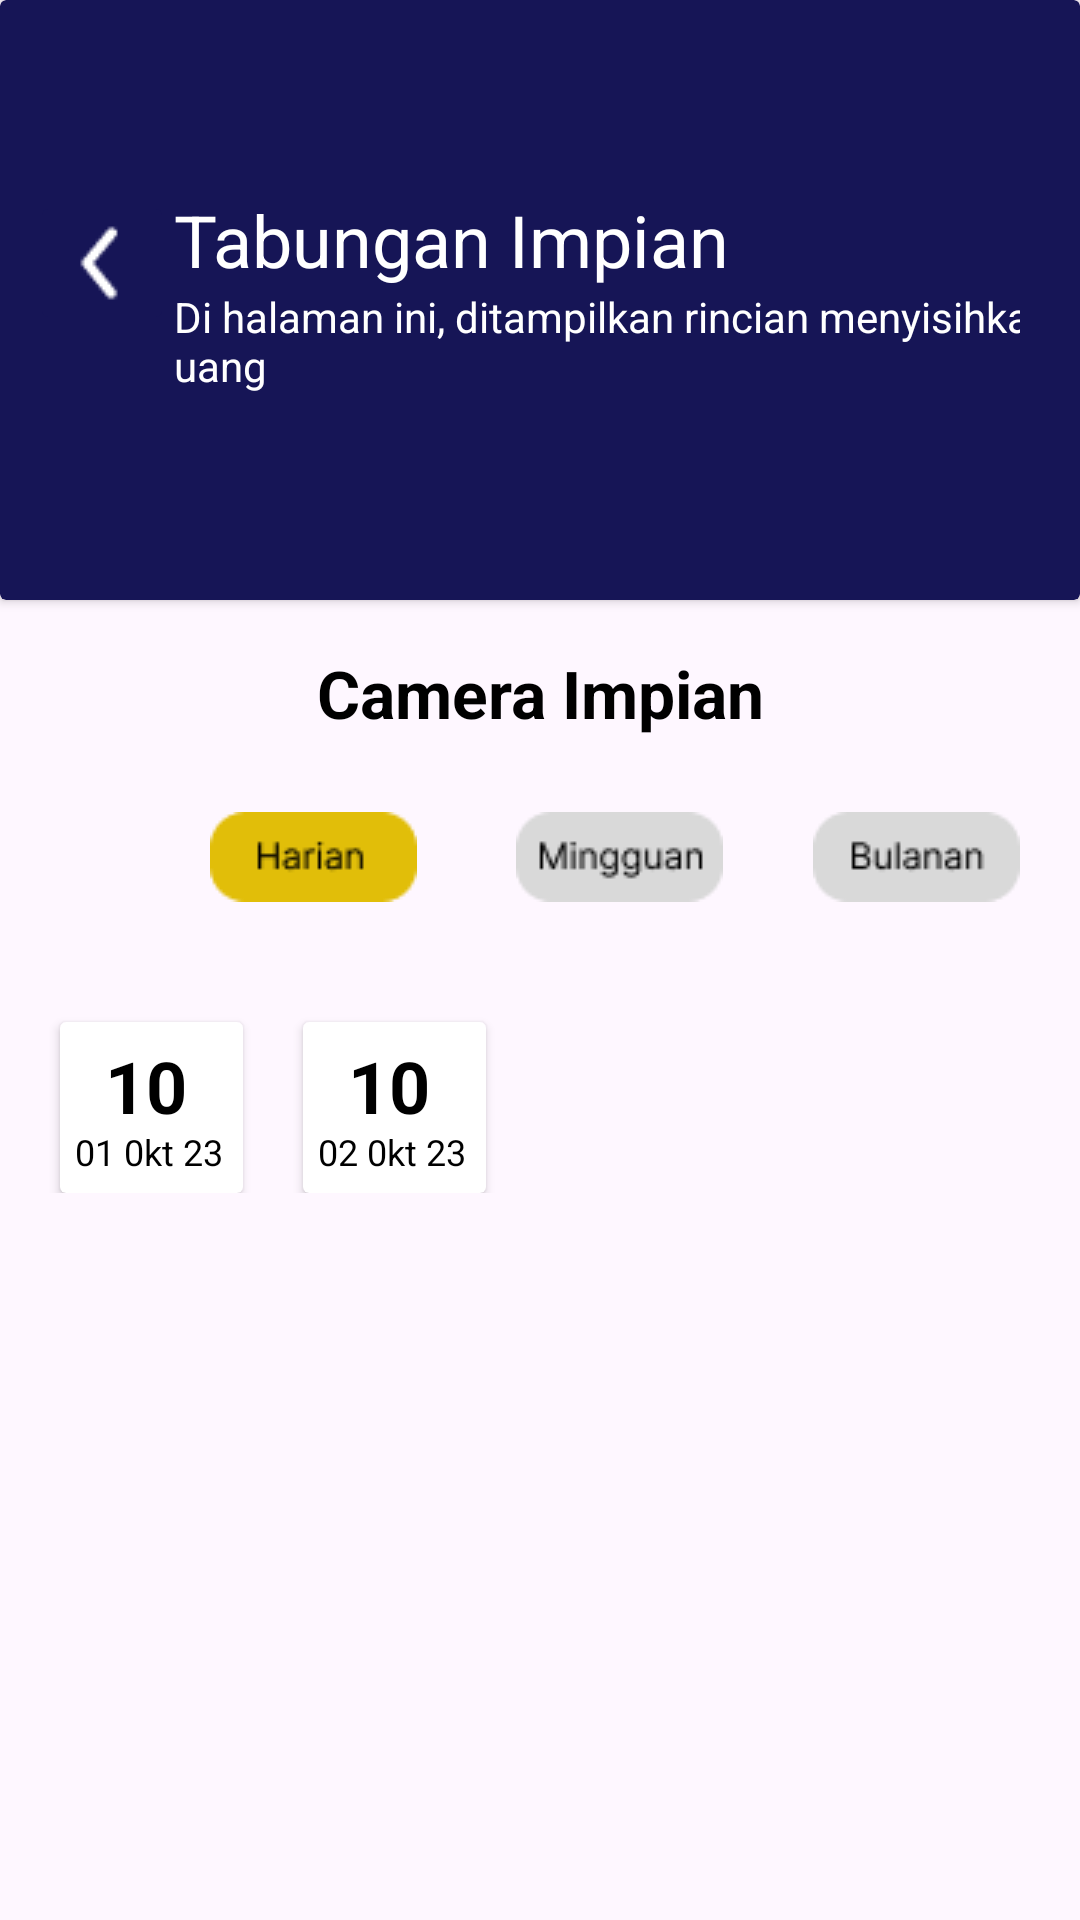

Screen size 1080 × 1920. Icon name, then its center in pixels as (x,y):
back: (99,263)
